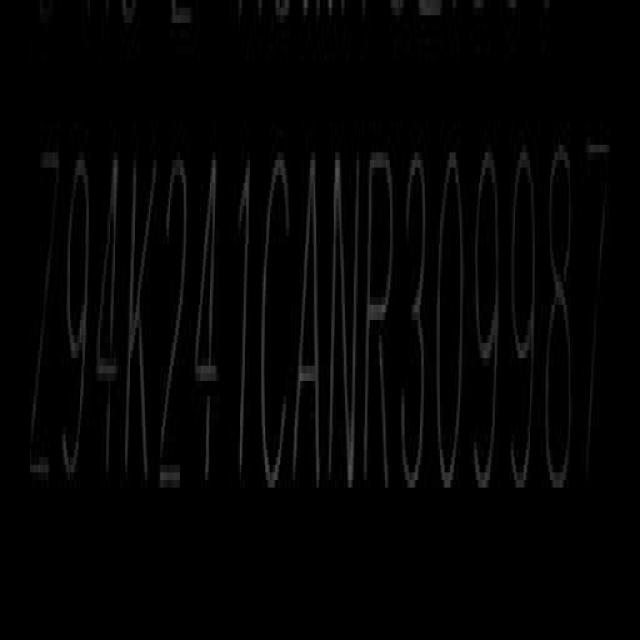0: (436, 136, 464, 505)
1: (232, 142, 254, 499)
2: (158, 147, 192, 500)
3: (401, 147, 432, 498)
4: (194, 147, 226, 496), (95, 148, 126, 493)
7: (579, 130, 612, 474)
8: (544, 138, 574, 501)
9: (59, 148, 92, 497), (471, 145, 503, 503), (508, 144, 540, 500)
A: (297, 144, 328, 496)
C: (258, 146, 292, 492)
K: (126, 145, 160, 499)
N: (325, 144, 363, 488)
R: (363, 144, 397, 493)
Z: (22, 144, 59, 503)
